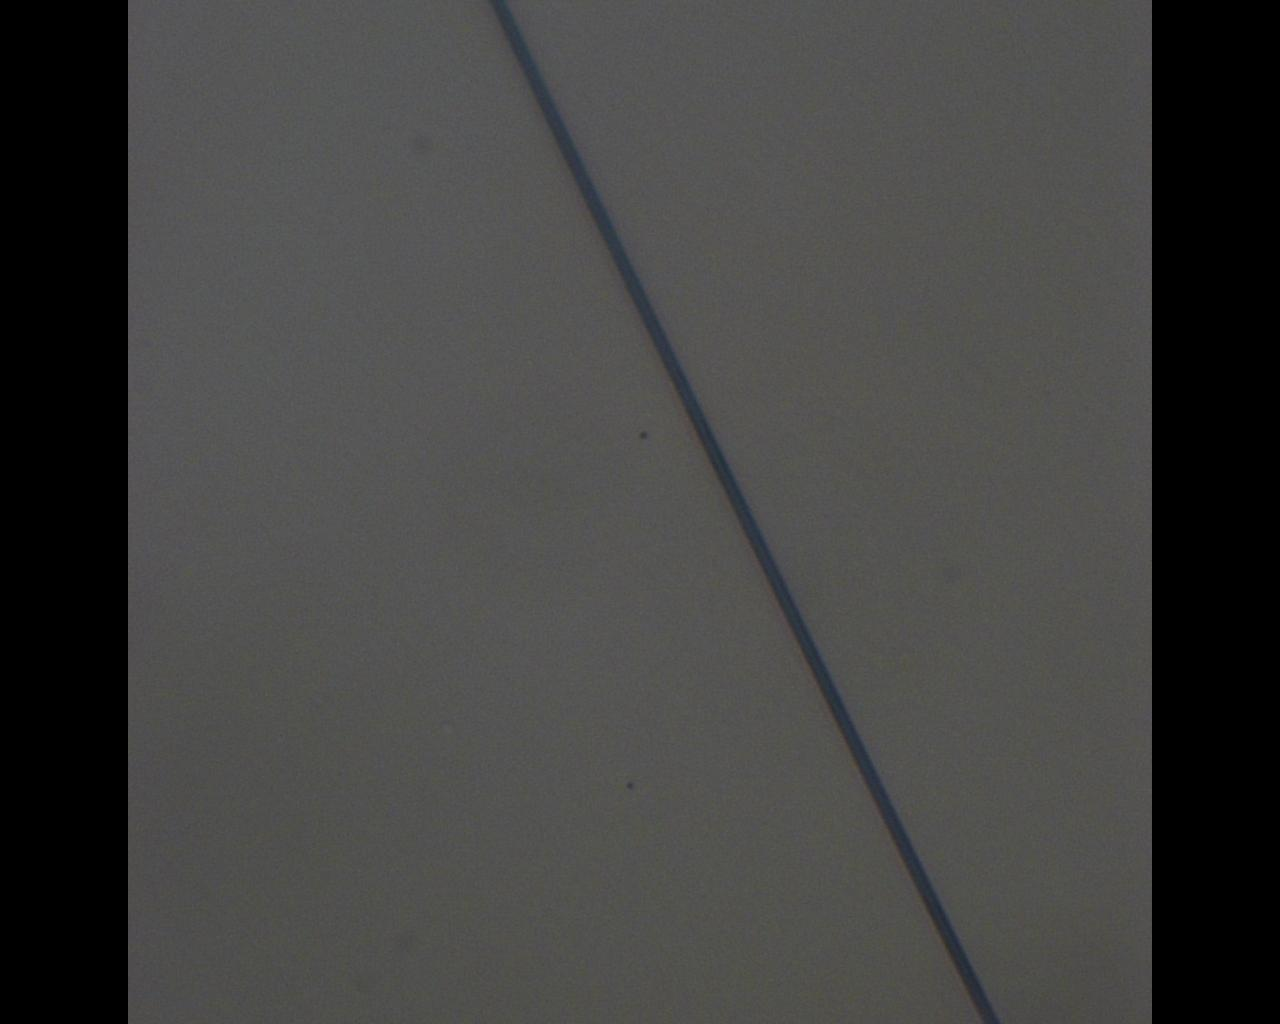fiber: (489, 0, 1005, 1024)
